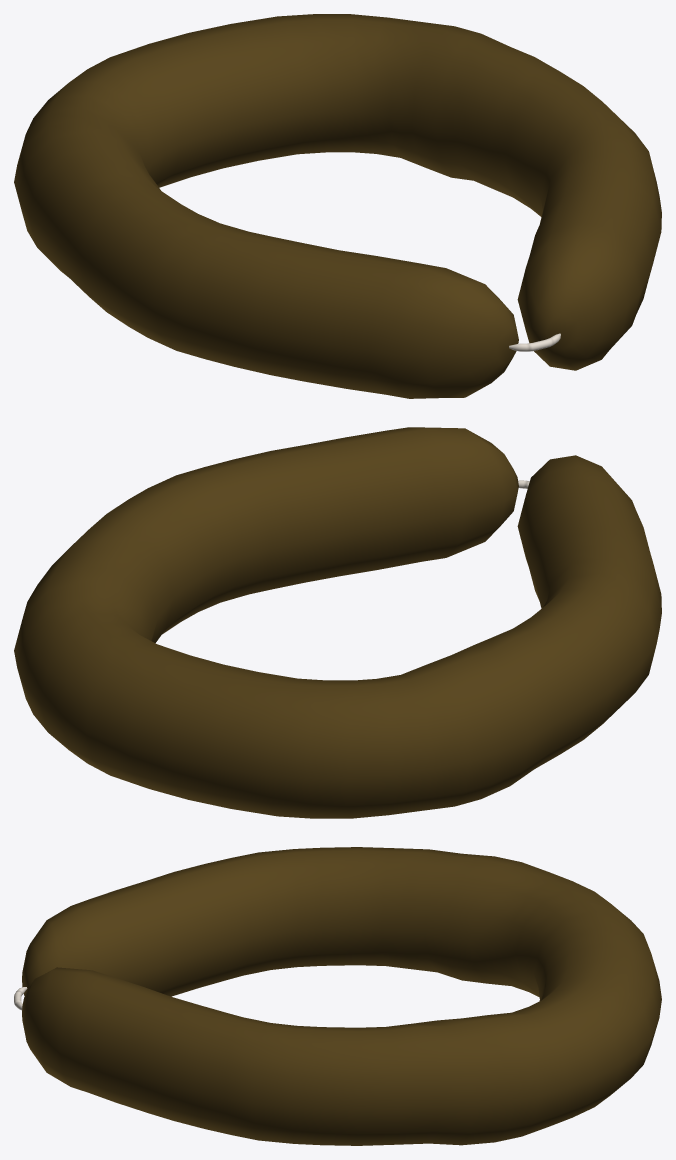
Rendered from poepworst (1).fbx.
3 views of the same model, one above another, from view 1: azimuth 30°, elevation 25°; view 2: azimuth 150°, elevation 25°; view 3: azimuth 270°, elevation 25° (orthographic). The views are drawn at different scales.
Parts seen in each view (by area): view 1: Torus; view 2: Torus; view 3: Torus.
Boxes of the visible parts, x1,y1,x2,y2 form: Torus: (14,14,661,398); Torus: (14,427,661,818); Torus: (14,847,661,1145).
Bounding box in the file's own units: 632 × 156 × 768.
